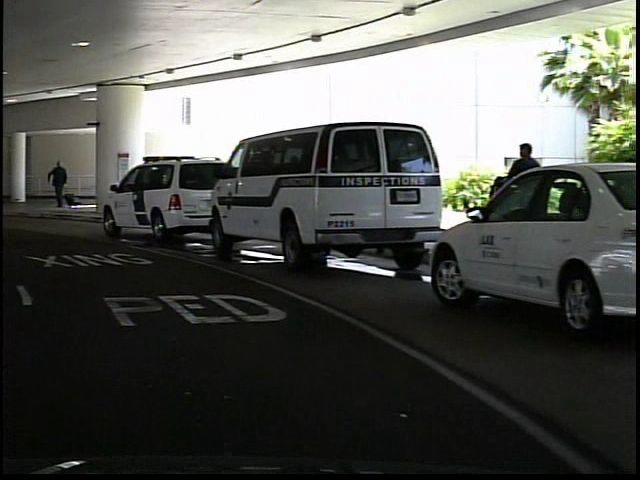person: (497, 137, 542, 260), (44, 156, 71, 215)
